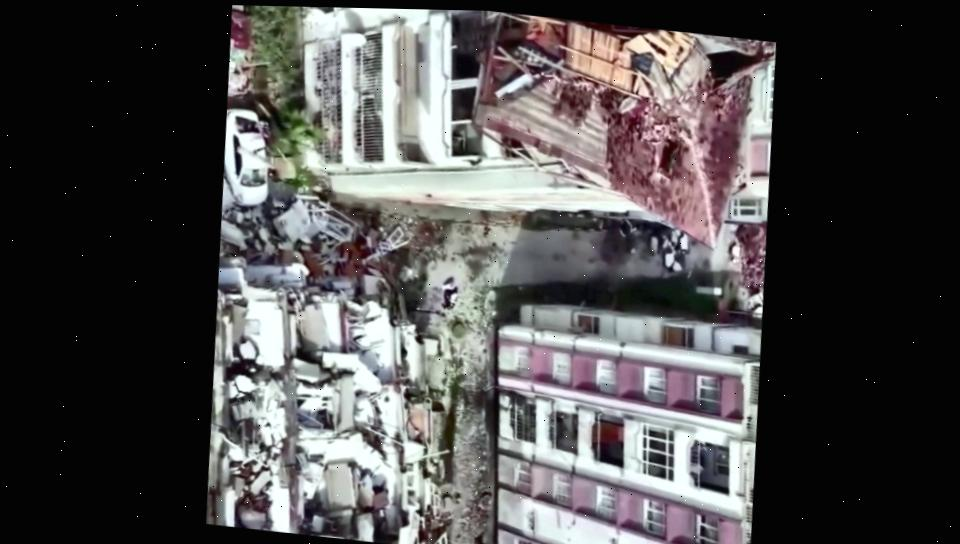kapali: (216, 198, 540, 298), (573, 228, 714, 282), (720, 222, 766, 277)
